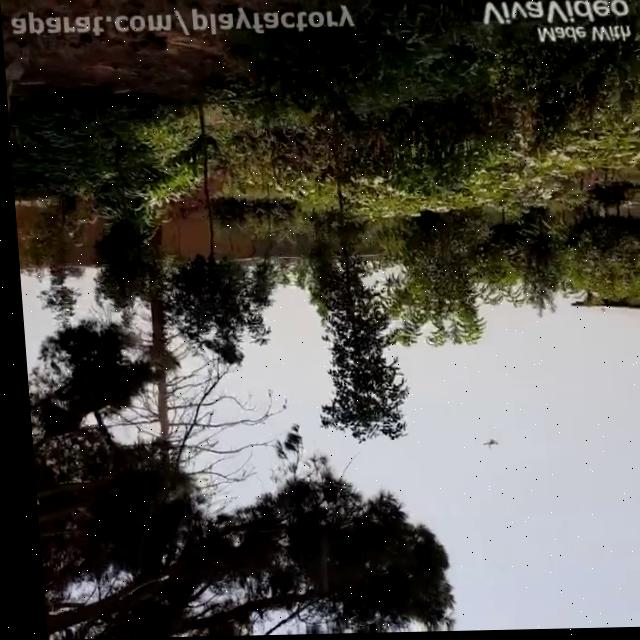drone: (474, 440, 496, 456)
